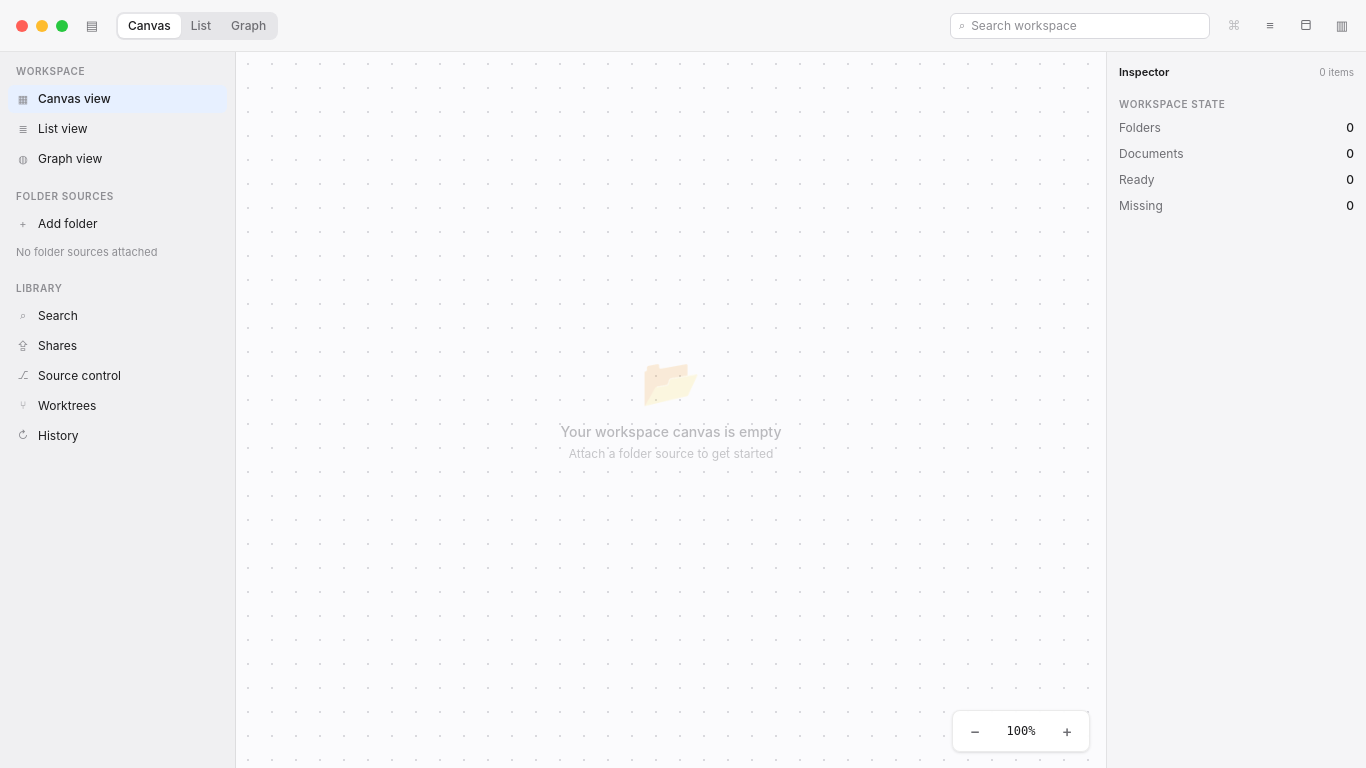
Test: App shell reachability › UI-03: the Source control sidebar row mounts screen 05 and reads GET status
The width and height of the screenshot is (1366, 768).
Click the button with test id "sidebar-source-control" at point(118, 376), box [8,362,227,390]
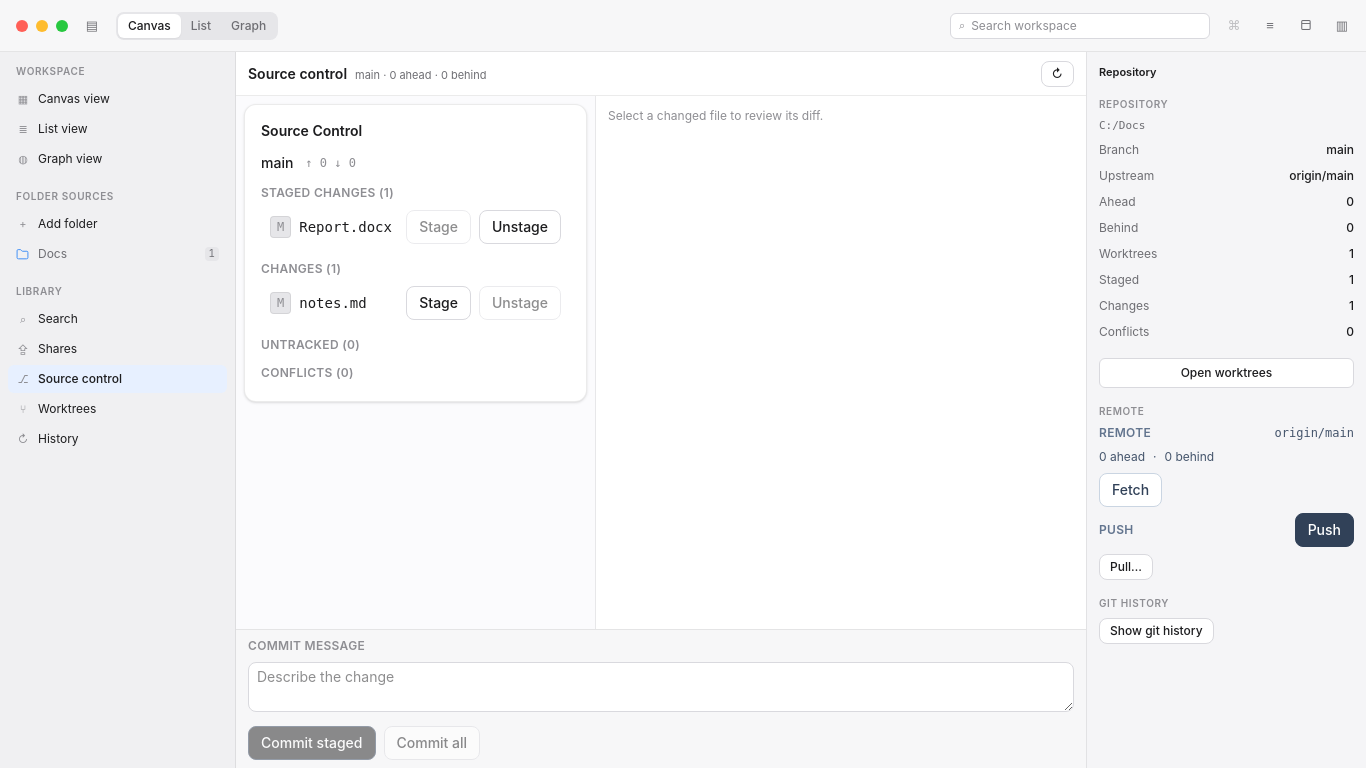
Check: the element with test id "source-control-screen" is shown
Check: the element with test id "source-control-section-unstaged" is shown, box [261,261,570,325]
